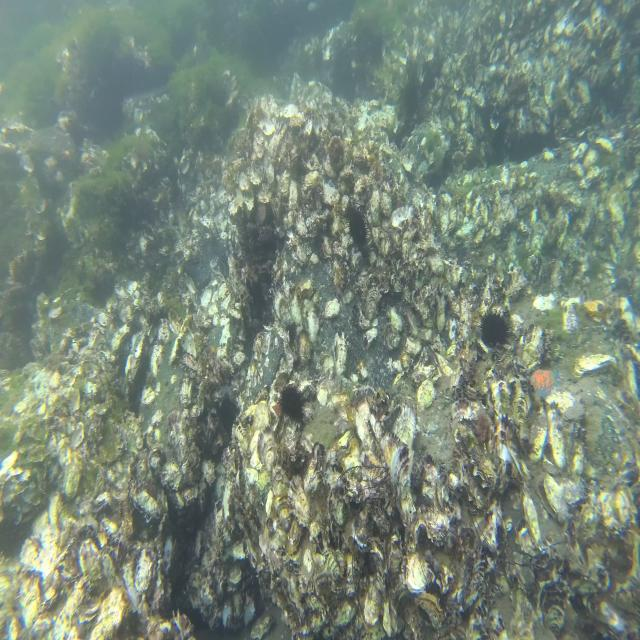echinus: (476, 307, 512, 351), (278, 379, 308, 428), (345, 199, 370, 255)
starfish: (528, 363, 559, 404)
